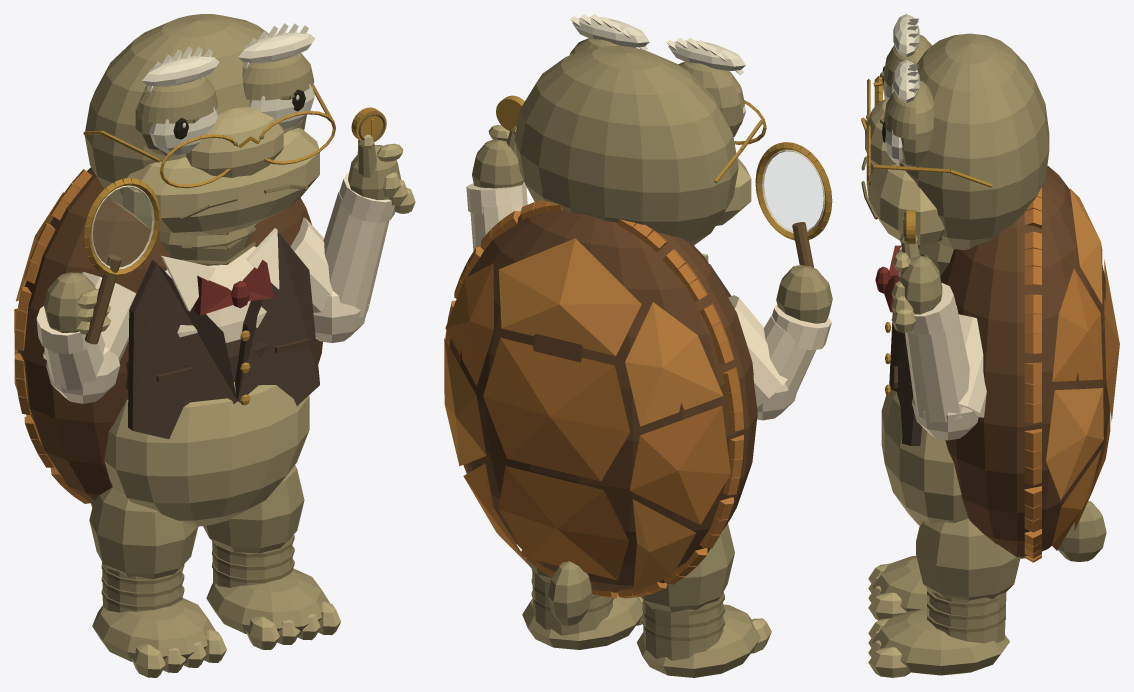
The model's file is Alexandre, o Lento.glb.
3 renders of one model, left to right at view 1: azimuth 30°, elevation 25°; view 2: azimuth 150°, elevation 25°; view 3: azimuth 270°, elevation 25°, orthographic. The views are drawn at different scales.
Parts seen in each view (by area): view 1: Alexandre_o_Lento; view 2: Alexandre_o_Lento; view 3: Alexandre_o_Lento.
Boxes of the visible parts, left/top/right/bottom form: Alexandre_o_Lento: left=14, top=14, right=415, bottom=677; Alexandre_o_Lento: left=444, top=14, right=832, bottom=677; Alexandre_o_Lento: left=861, top=14, right=1119, bottom=677.
Bounding box in the file's own units: 1.78 × 2.86 × 1.12.
Materials: 2 (2 with a texture image).
